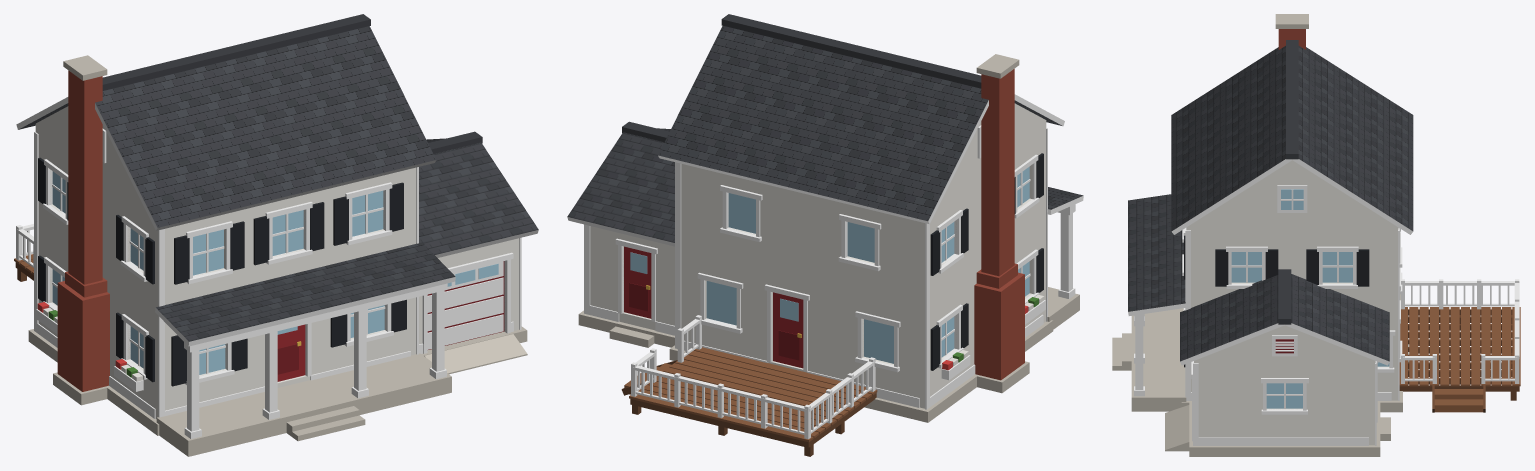
Rendered from base-03-level3.glb.
3 views of the same model, side by side, from view 1: azimuth 30°, elevation 25°; view 2: azimuth 150°, elevation 25°; view 3: azimuth 270°, elevation 25° (orthographic). The views are drawn at different scales.
Parts seen in each view (by area): view 1: base_house_3_finished, piece_garage, piece_deck; view 2: base_house_3_finished, piece_garage, piece_deck; view 3: base_house_3_finished, piece_garage, piece_deck.
Part boxes in pixels (left/top/right/bottom): base_house_3_finished: left=16, top=14, right=455, bottom=456; piece_garage: left=419, top=131, right=538, bottom=374; piece_deck: left=14, top=224, right=33, bottom=281; base_house_3_finished: left=658, top=14, right=1083, bottom=422; piece_garage: left=567, top=121, right=674, bottom=347; piece_deck: left=621, top=315, right=877, bottom=456; base_house_3_finished: left=1112, top=14, right=1413, bottom=412; piece_garage: left=1165, top=269, right=1390, bottom=456; piece_deck: left=1399, top=279, right=1520, bottom=412.
Bounding box in the file's own units: 13.29 × 10.18 × 13.47.
17 materials, 1 textured.
